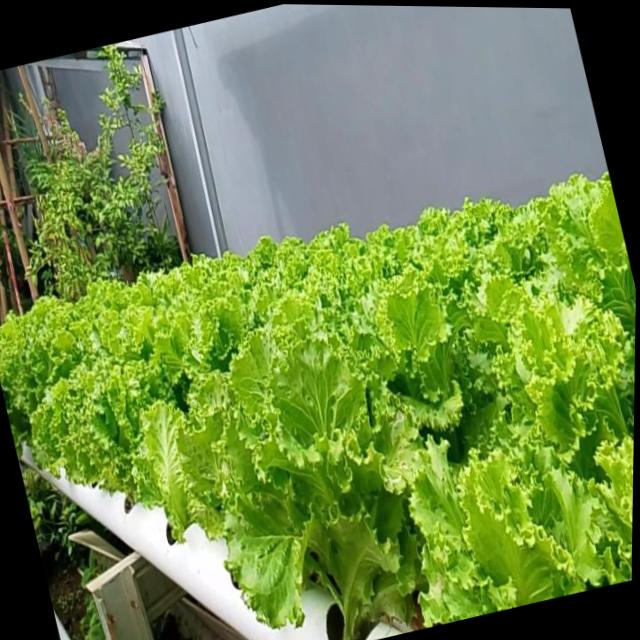Mature: (0, 156, 636, 640), (205, 334, 407, 630), (10, 310, 172, 515)
